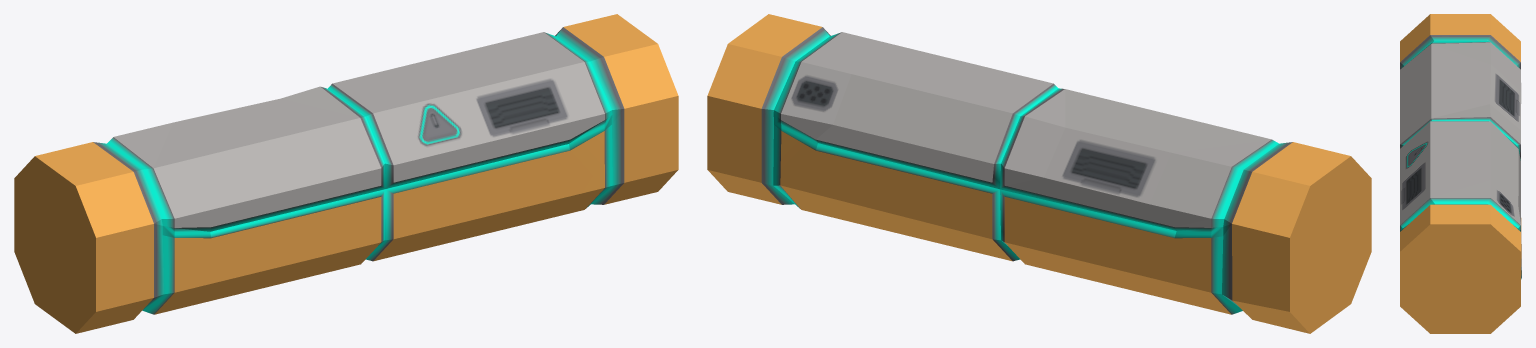
File: SM_Bld_Pipe_Large_Octo_02.fbx
3 renders of one model, left to right at view 1: azimuth 30°, elevation 25°; view 2: azimuth 150°, elevation 25°; view 3: azimuth 270°, elevation 25°, orthographic. The views are drawn at different scales.
Visible parts, largest first — view 1: SM_Bld_Pipe_Large_Octo_02; view 2: SM_Bld_Pipe_Large_Octo_02; view 3: SM_Bld_Pipe_Large_Octo_02.
Part boxes in pixels (bbox=[...]): SM_Bld_Pipe_Large_Octo_02: bbox=[14, 14, 678, 333]; SM_Bld_Pipe_Large_Octo_02: bbox=[707, 14, 1371, 333]; SM_Bld_Pipe_Large_Octo_02: bbox=[1400, 14, 1521, 333].
Bounding box in the file's own units: 500 × 122 × 122.
